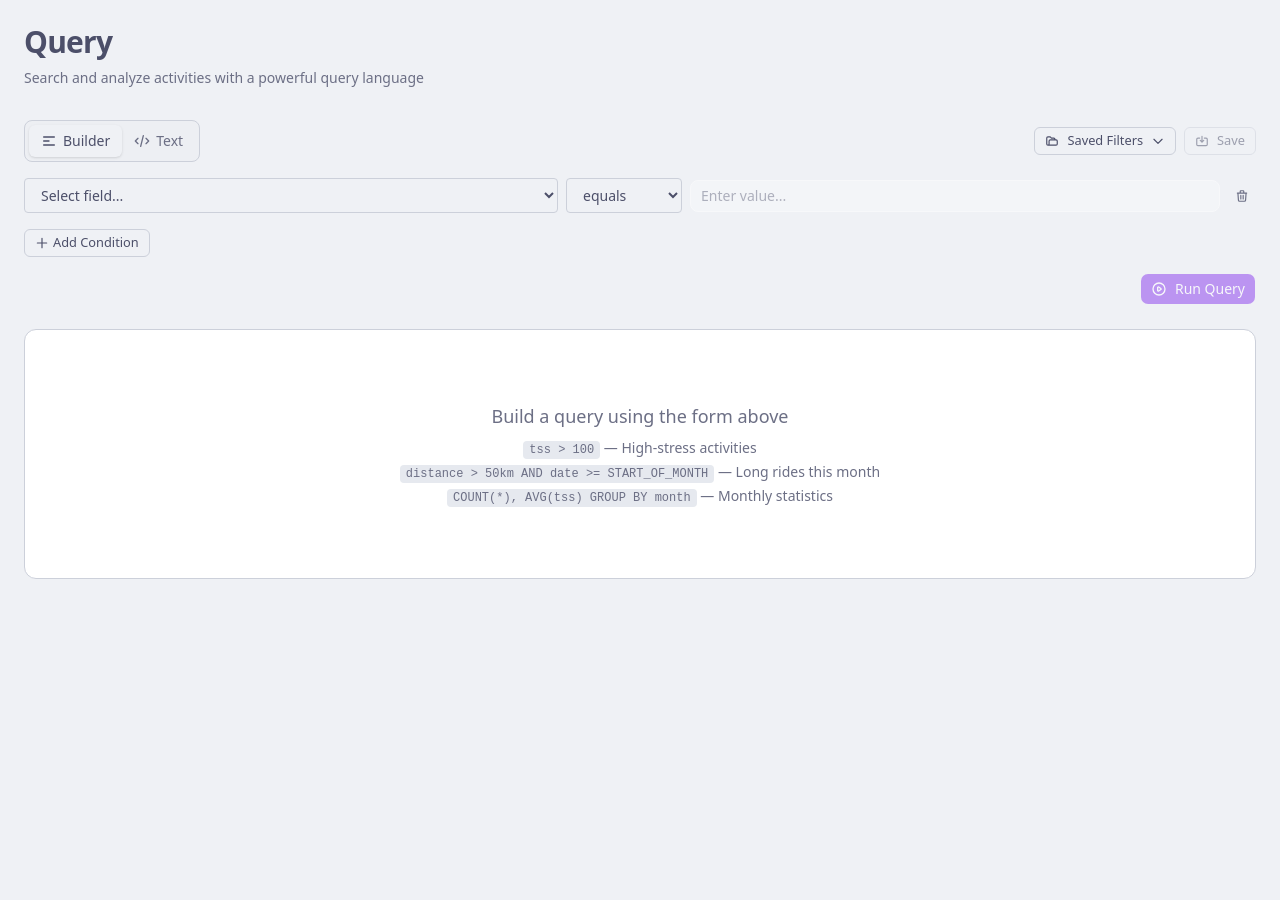
Scenario: QueryPage › mode switching › switches to text mode when clicking text button
Step 1. Click the button "Text" → (159, 141), box [122,125,195,157]
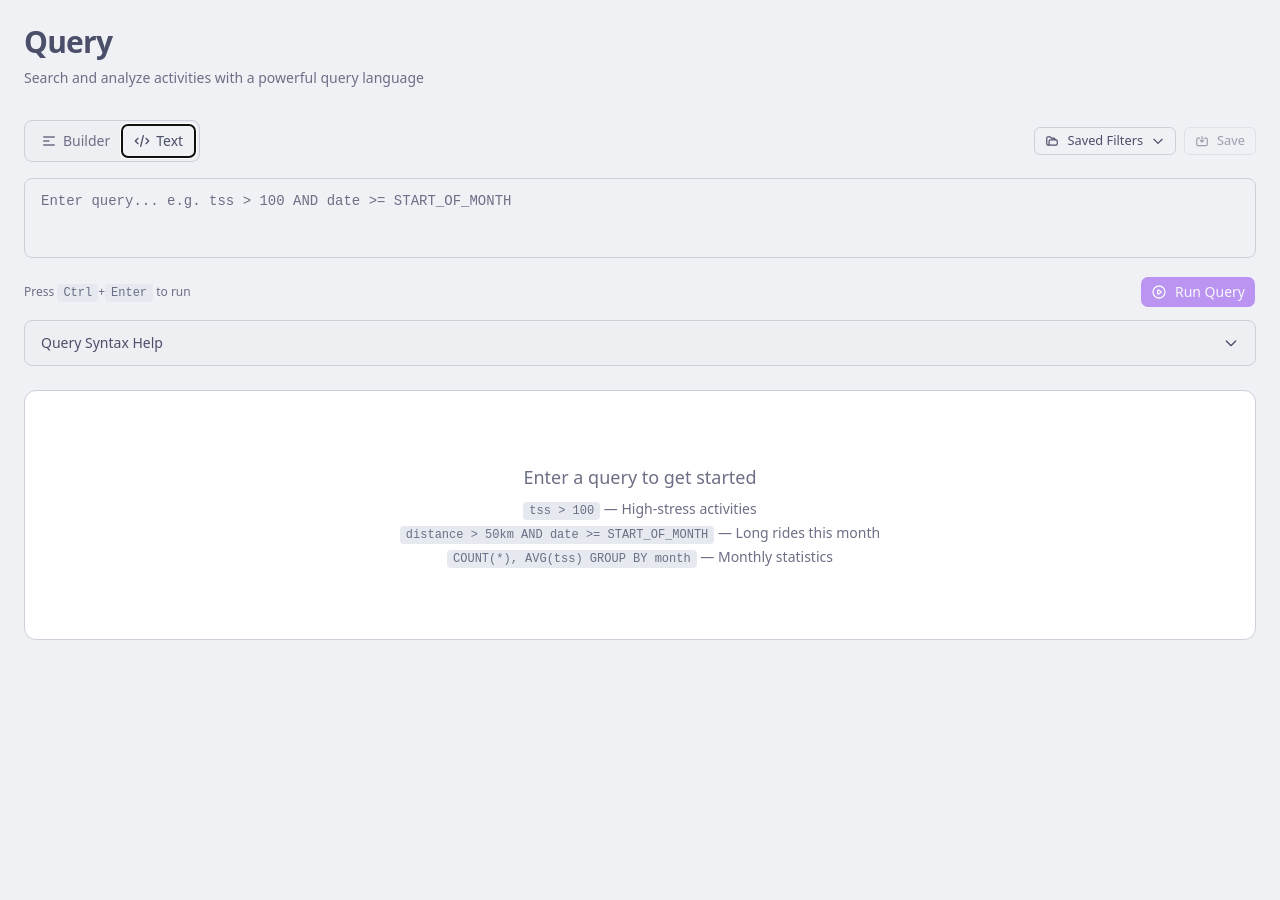
Expected: the text box with placeholder "Enter query... e.g. tss > 100 AND date >= START_OF_MONTH" is shown, [24,178,1256,258]
